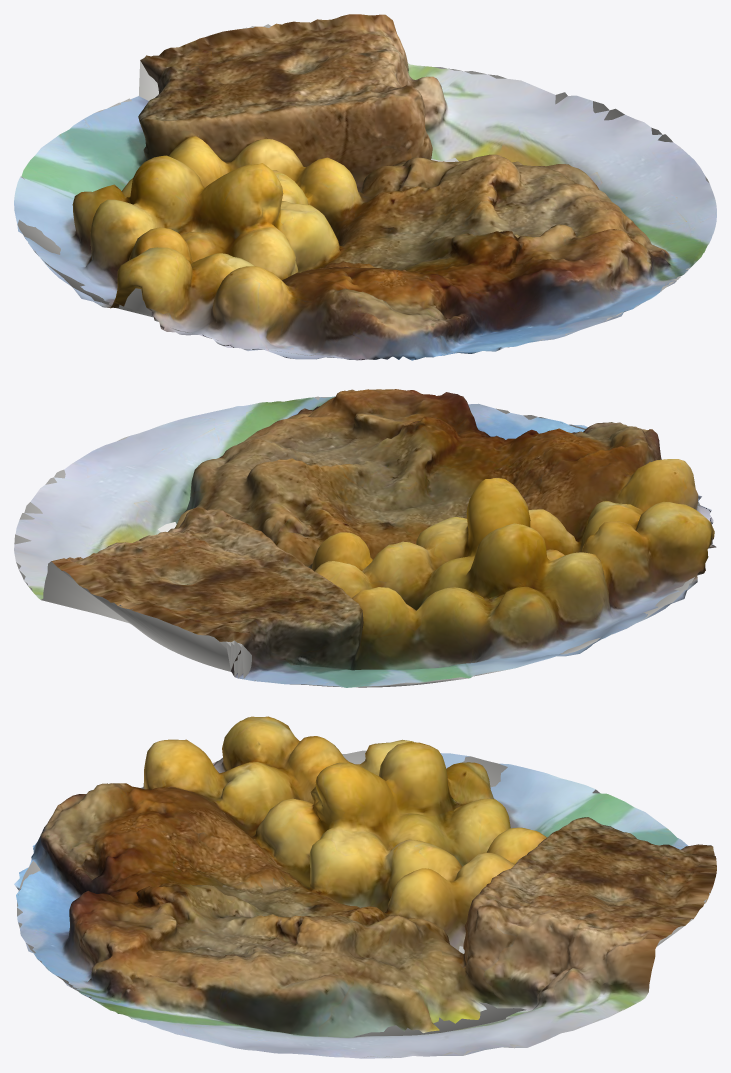
File: milanesa_papas.glb
3 views of the same model, one above another, from view 1: azimuth 30°, elevation 25°; view 2: azimuth 150°, elevation 25°; view 3: azimuth 270°, elevation 25° (orthographic).
Visible parts, largest first — view 1: milanesa_papas.glb; view 2: milanesa_papas.glb; view 3: milanesa_papas.glb.
Part boxes in pixels (left/top/right/bottom): milanesa_papas.glb: left=14, top=14, right=716, bottom=360; milanesa_papas.glb: left=14, top=389, right=716, bottom=687; milanesa_papas.glb: left=14, top=716, right=716, bottom=1058.
Size of the model in its own units: 0.2436 by 0.0471 by 0.2437.
2 materials, 1 textured.
